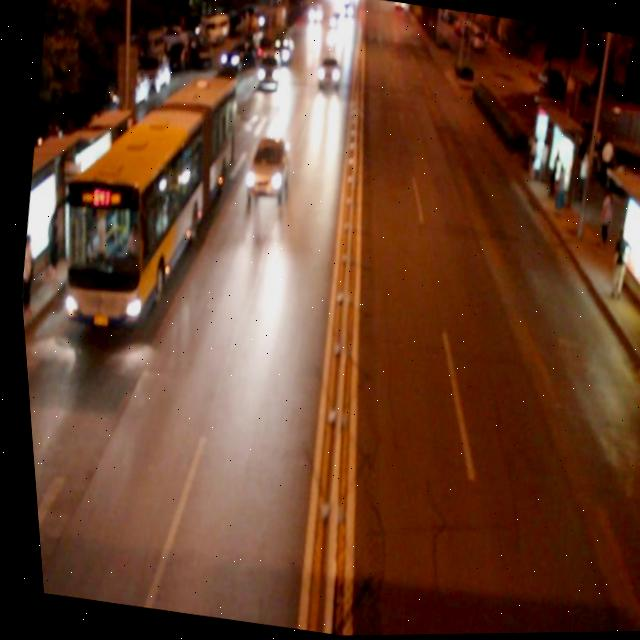car: (238, 131, 294, 204), (312, 52, 344, 93), (269, 35, 296, 64)
truck: (252, 49, 284, 95)
van: (42, 61, 251, 338)
